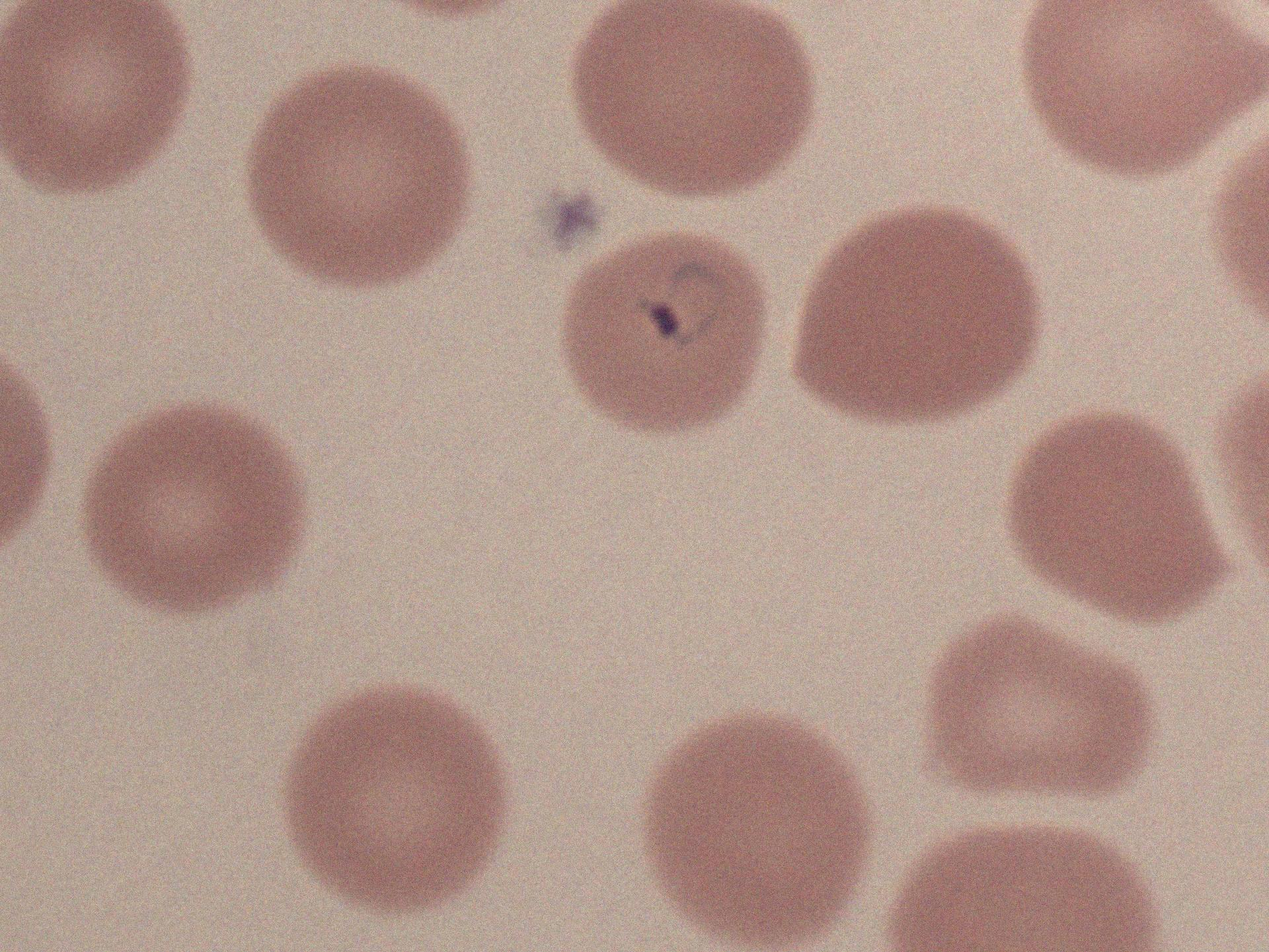Infected: (571, 228, 768, 438)
Uninfected: (639, 710, 865, 945), (791, 210, 1034, 426), (251, 60, 466, 289), (291, 686, 502, 912), (1007, 413, 1229, 621), (88, 404, 304, 617), (577, 0, 805, 198), (921, 615, 1152, 804), (1027, 0, 1269, 178), (0, 0, 184, 195)
